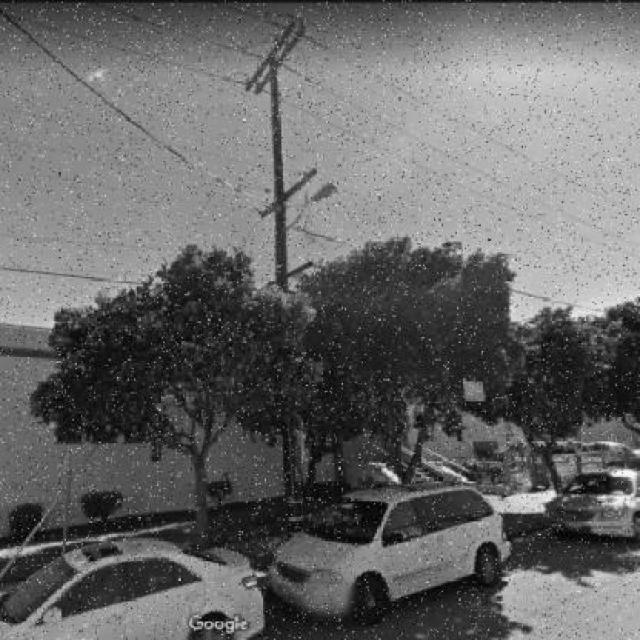pole: (215, 12, 334, 546)
